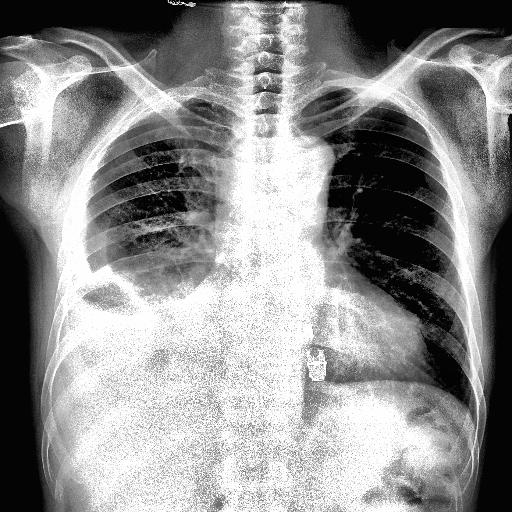0- Aortic enlargement: (276, 138, 334, 190)
10- Pleural effusion: (60, 200, 203, 399), (60, 198, 214, 374), (50, 285, 227, 390)
3- Cardiomegaly: (186, 286, 418, 392)
7- Lung Opacity: (84, 222, 198, 312), (70, 236, 204, 312), (73, 222, 171, 320)
